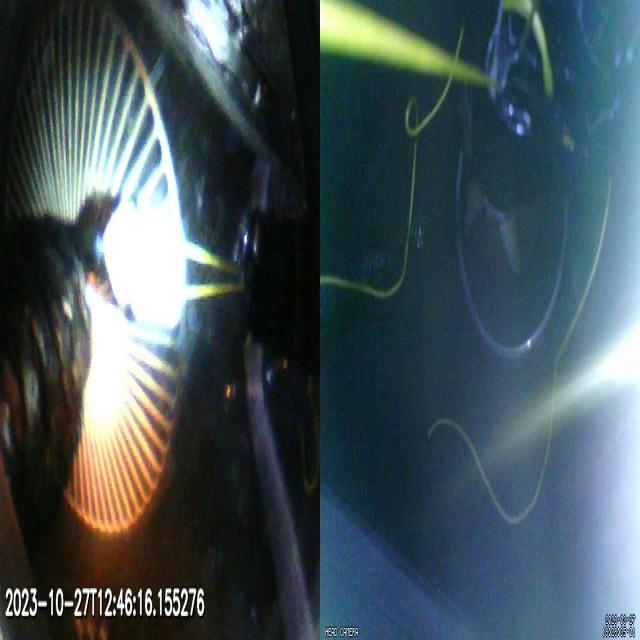head: (118, 202, 186, 334)
